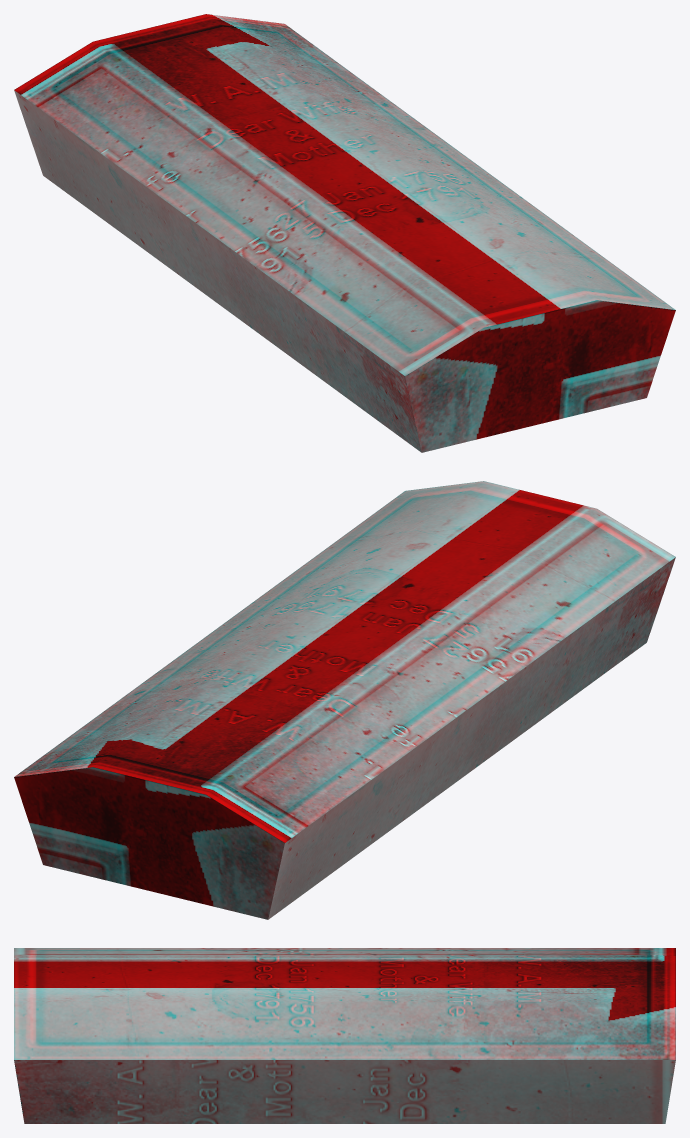
File: grave3.FBX
3 renders of one model, top to bottom at view 1: azimuth 30°, elevation 25°; view 2: azimuth 150°, elevation 25°; view 3: azimuth 270°, elevation 25°, orthographic. The views are drawn at different scales.
Visible parts, largest first — view 1: grave3; view 2: grave3; view 3: grave3.
Boxes of the visible parts, x1,y1,x2,y2 form: grave3: (14, 14, 675, 452); grave3: (14, 481, 675, 919); grave3: (14, 948, 675, 1123).
Size of the model in its own units: 50 by 20.43 by 125.
